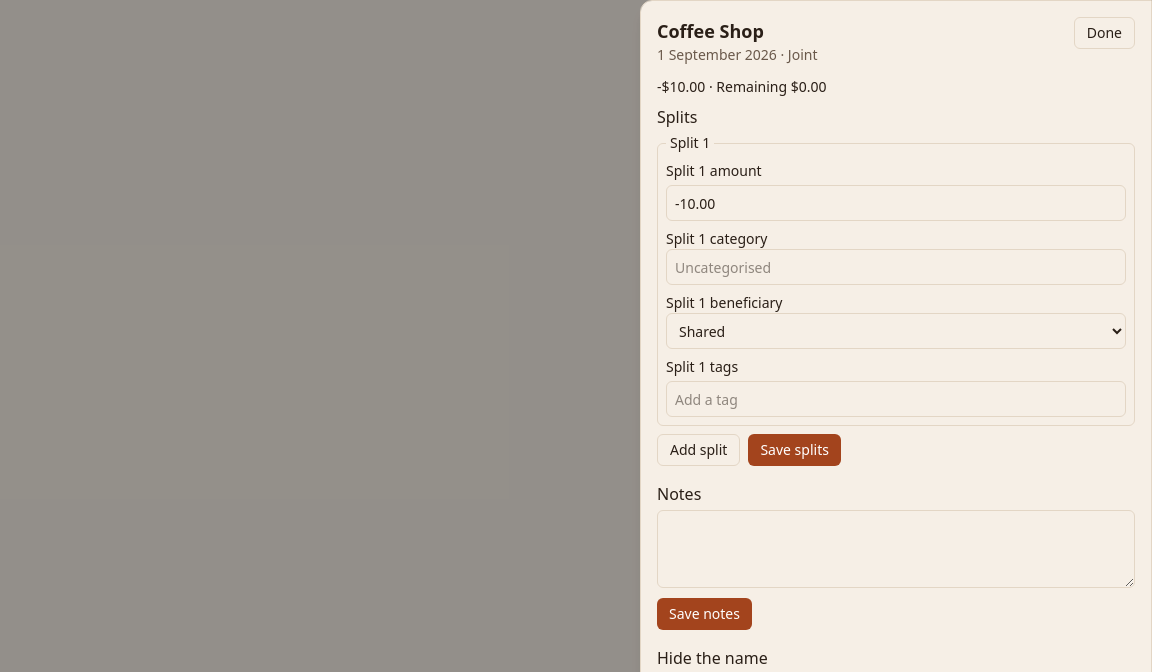
Test: TransactionSheet › says when a higher-ranked source kept the field
The width and height of the screenshot is (1152, 672).
Click the dropdown named "Split 1 category": (896, 267) [666,249,1126,285]
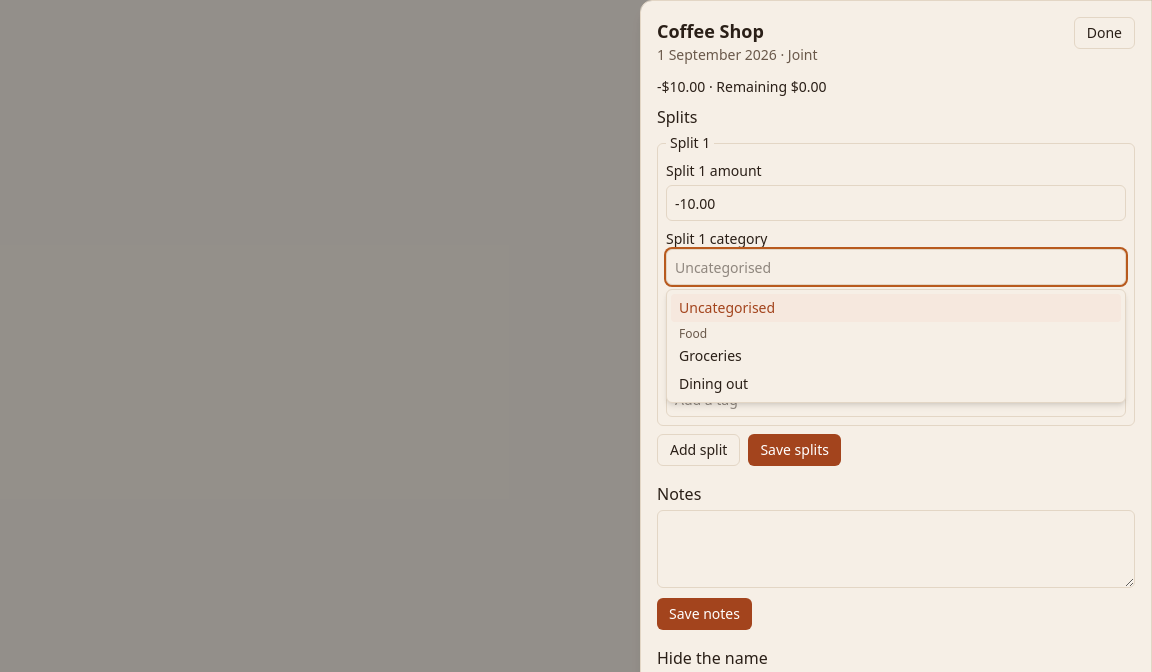
Click the option "Groceries": (710, 356) [679,346,742,365]
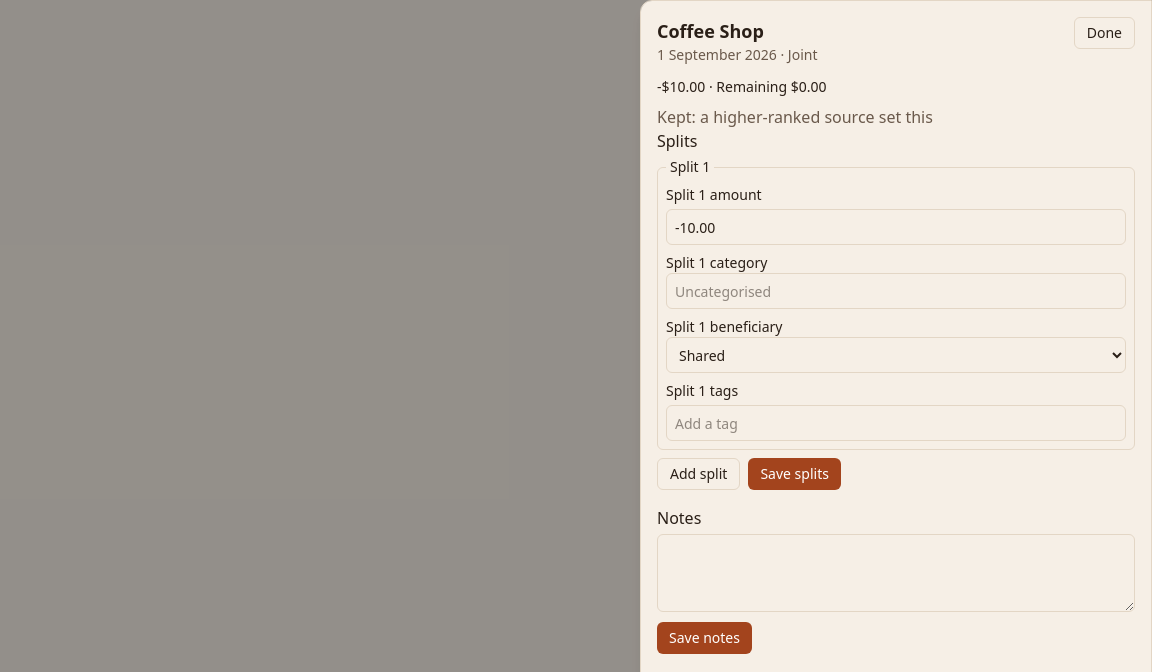
Expected: the message reads "Kept: a higher-ranked source set this", [657,106,933,128]
